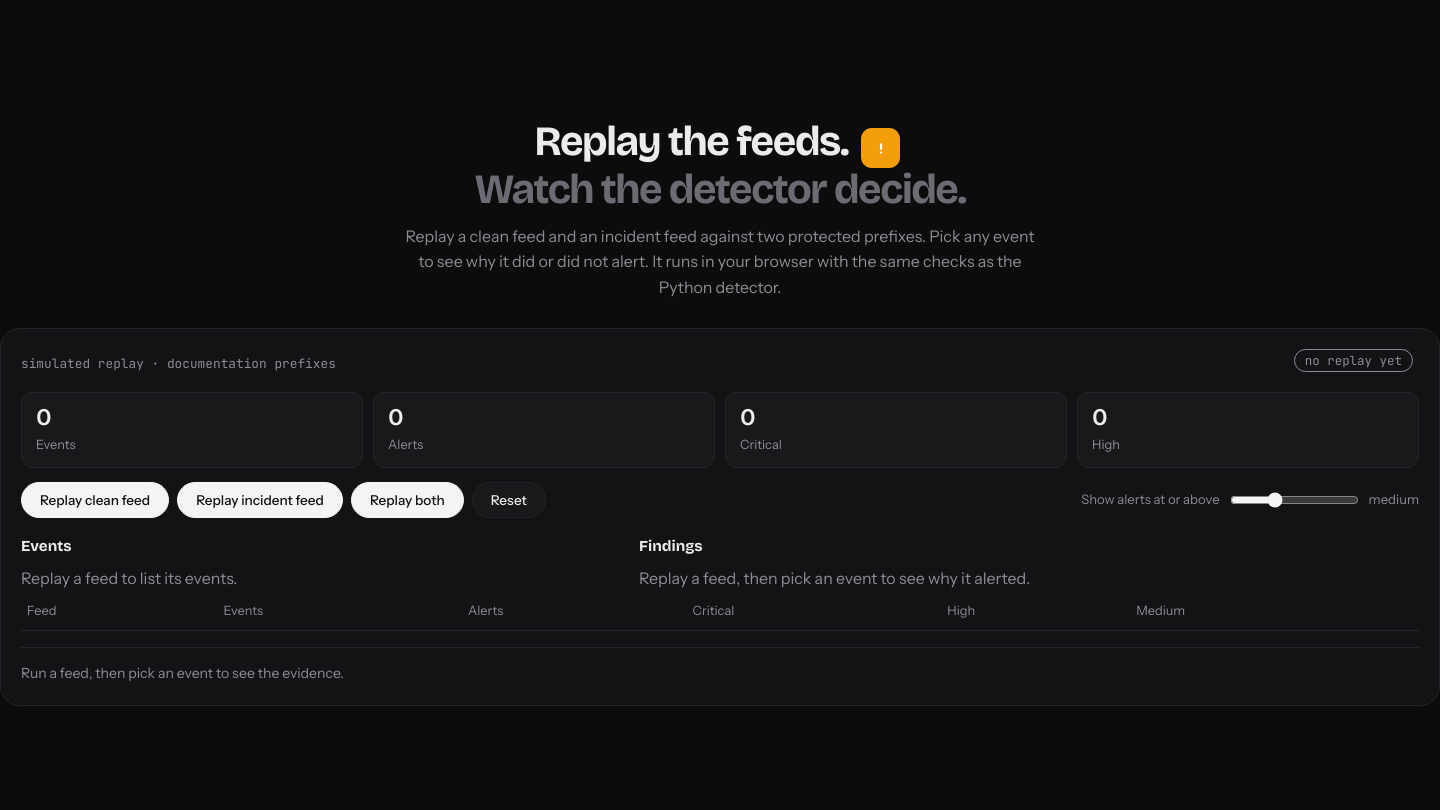
Test: simulator › shows 8 alerts and 1 critical after replaying the incident feed
Click the button "Replay incident feed". click: (260, 500)
box: [177,482,343,518]
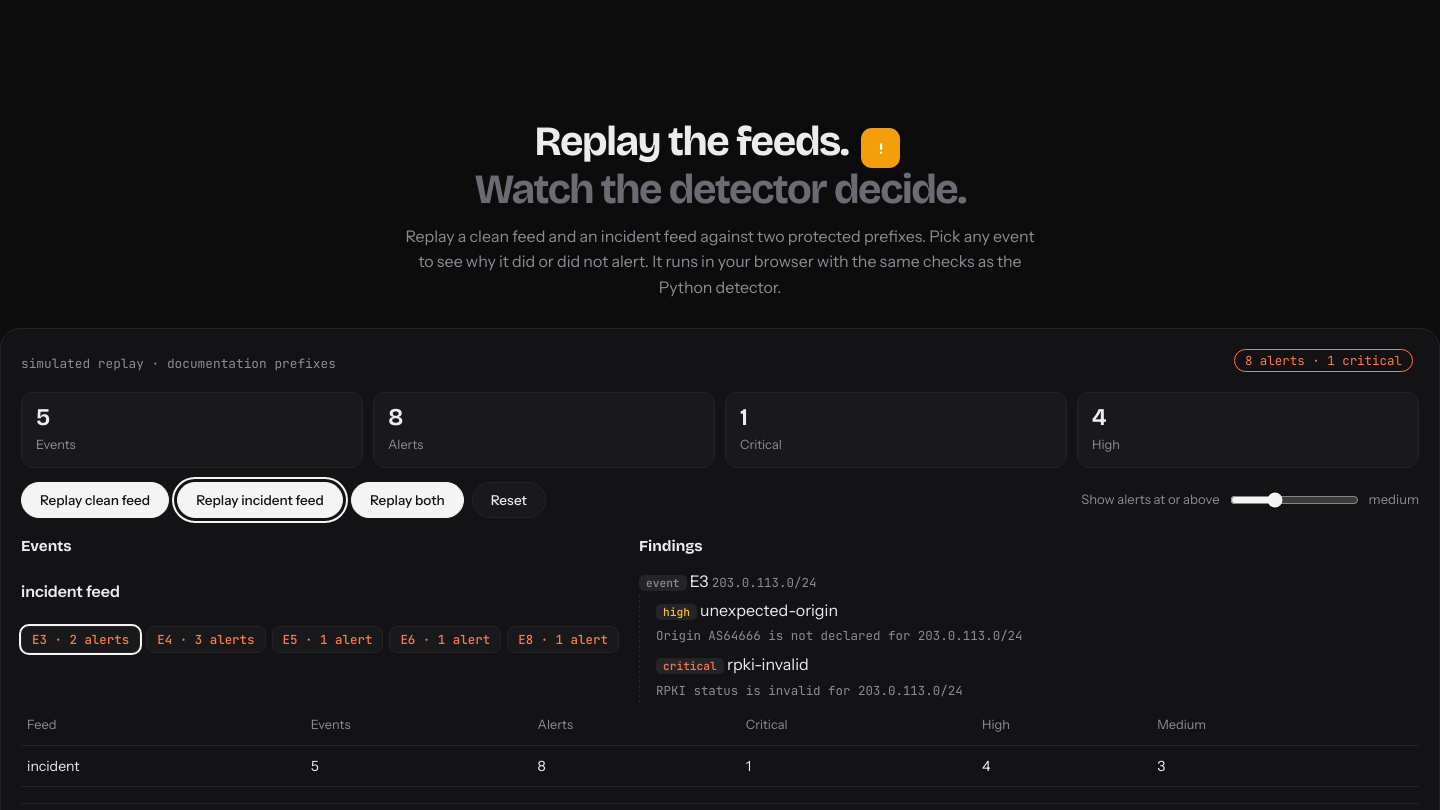
Expected: the text "8 alerts · 1 critical" is shown, [1234,349,1413,372]
Expected: the text "8" is shown, [388,403,404,431]
